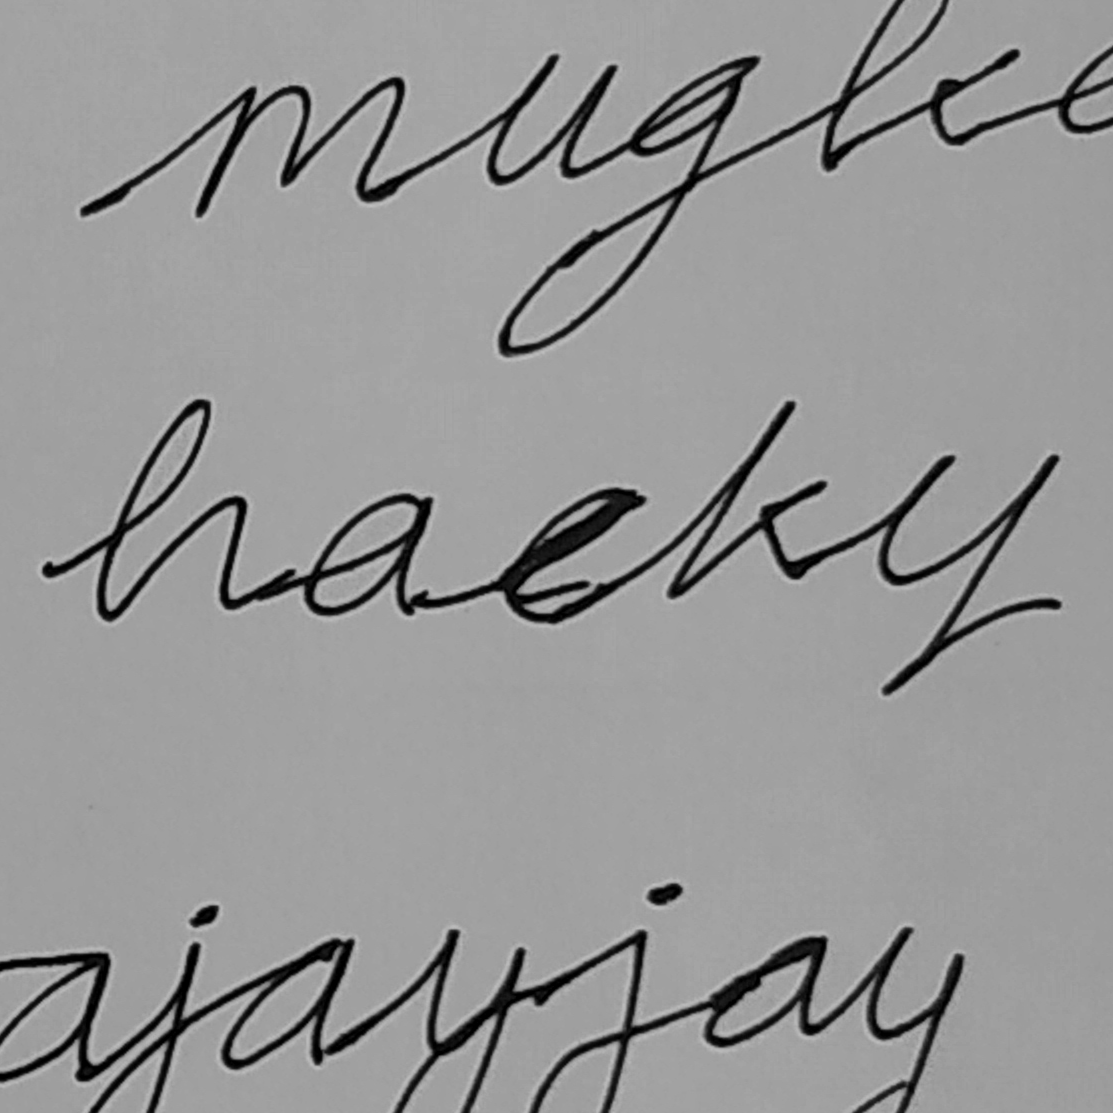a: (297, 488, 437, 624)
c: (494, 482, 651, 628)
h: (86, 394, 259, 628)
k: (662, 397, 831, 605)
y: (869, 445, 1062, 699)
